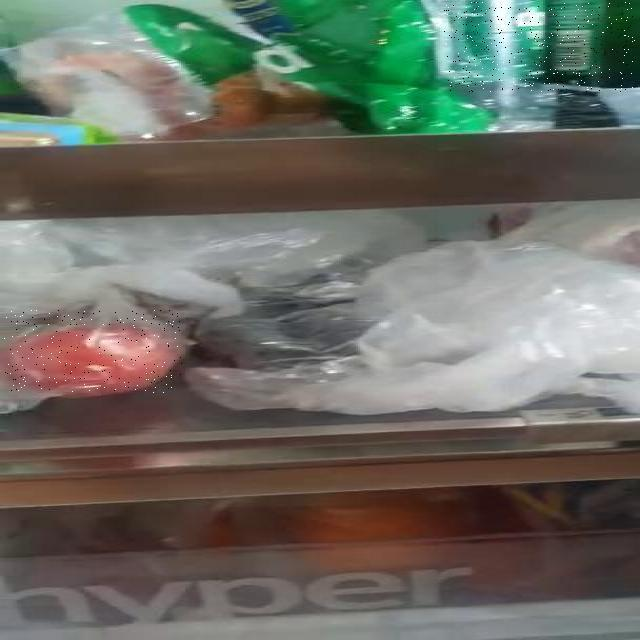Tomate: (4, 310, 183, 393)
mineral water: (445, 2, 637, 92)
